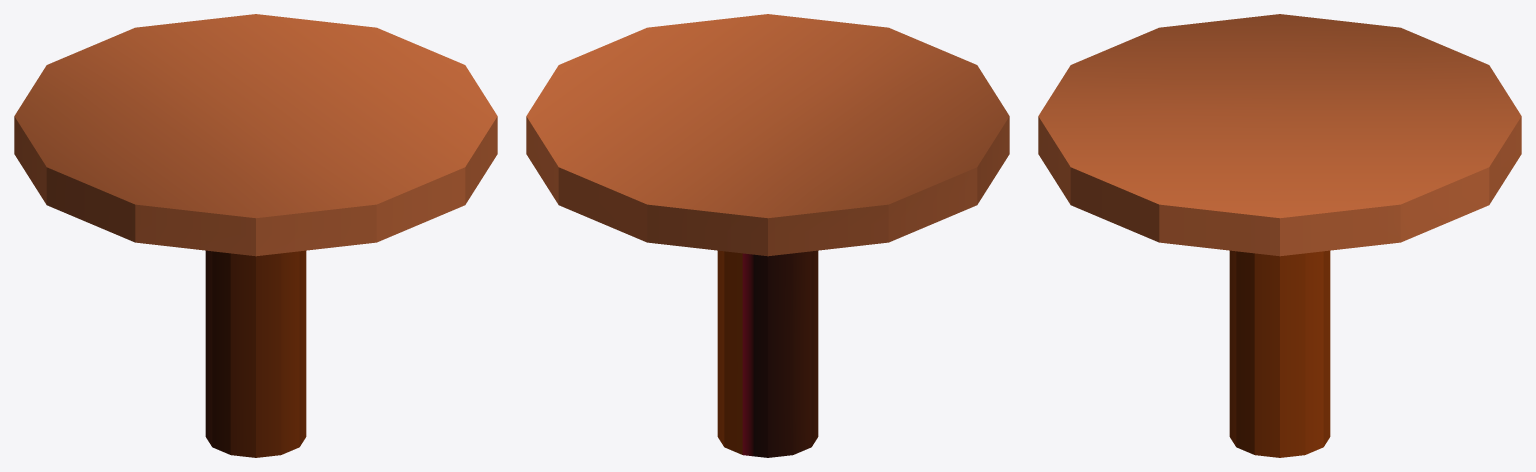
File: Table.fbx
3 renders of one model, left to right at view 1: azimuth 30°, elevation 25°; view 2: azimuth 150°, elevation 25°; view 3: azimuth 270°, elevation 25°, orthographic.
Visible parts, largest first — view 1: Table; view 2: Table; view 3: Table.
Part boxes in pixels (<box>): Table: <box>14,14,497,457</box>; Table: <box>526,14,1009,457</box>; Table: <box>1038,14,1521,457</box>.
Size of the model in its own units: 51.39 by 37.61 by 51.39.
1 material, 1 textured.
